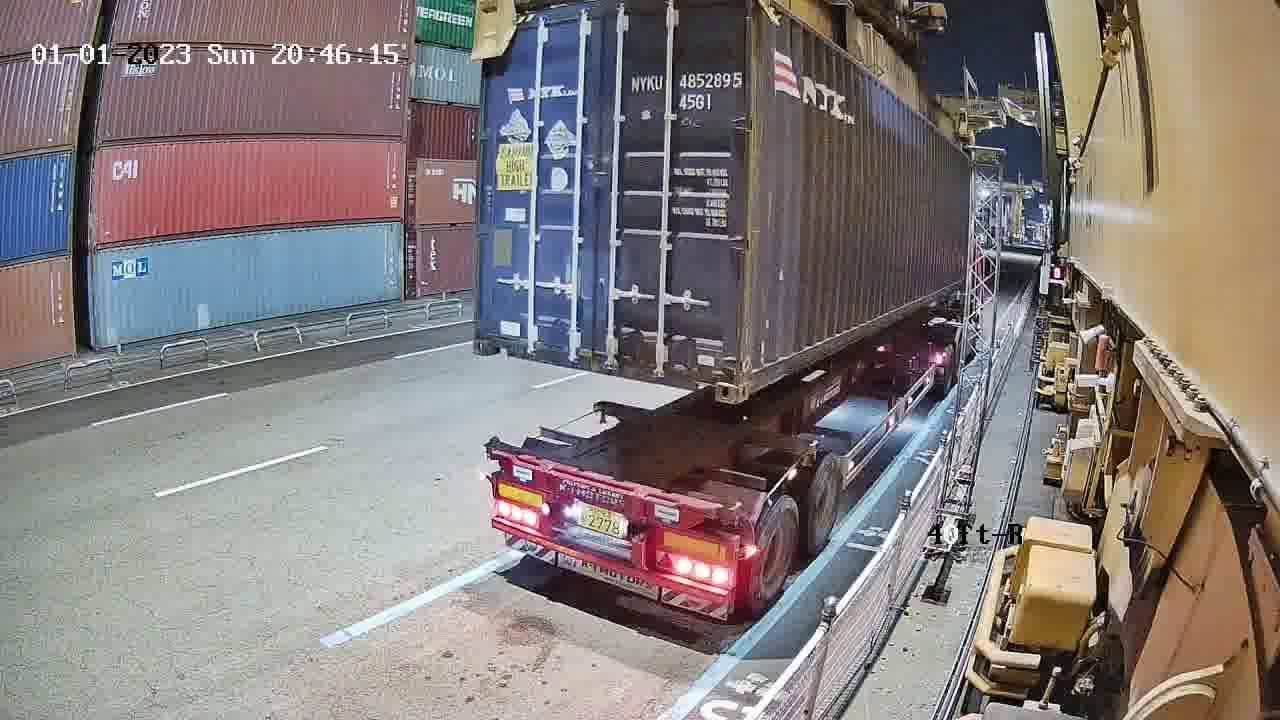Chassis: (488, 450, 720, 531)
Cone: (483, 432, 509, 465), (721, 495, 740, 531)
Hole_L: (739, 332, 780, 405), (471, 311, 519, 360)
Hole_R: (692, 344, 745, 404)
Tire: (747, 497, 799, 606), (807, 455, 847, 551)
